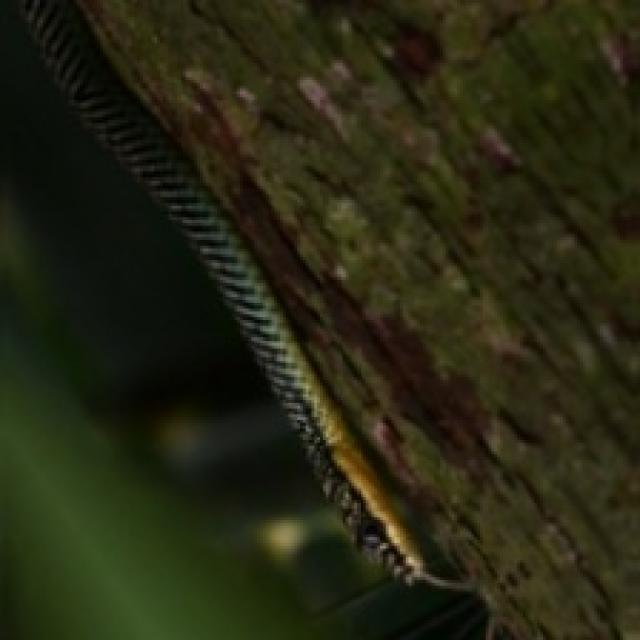paradise tree snake: (20, 0, 469, 589), (0, 0, 383, 637), (420, 126, 637, 637), (286, 49, 411, 146), (154, 26, 274, 126), (474, 49, 594, 123), (337, 146, 366, 183)
